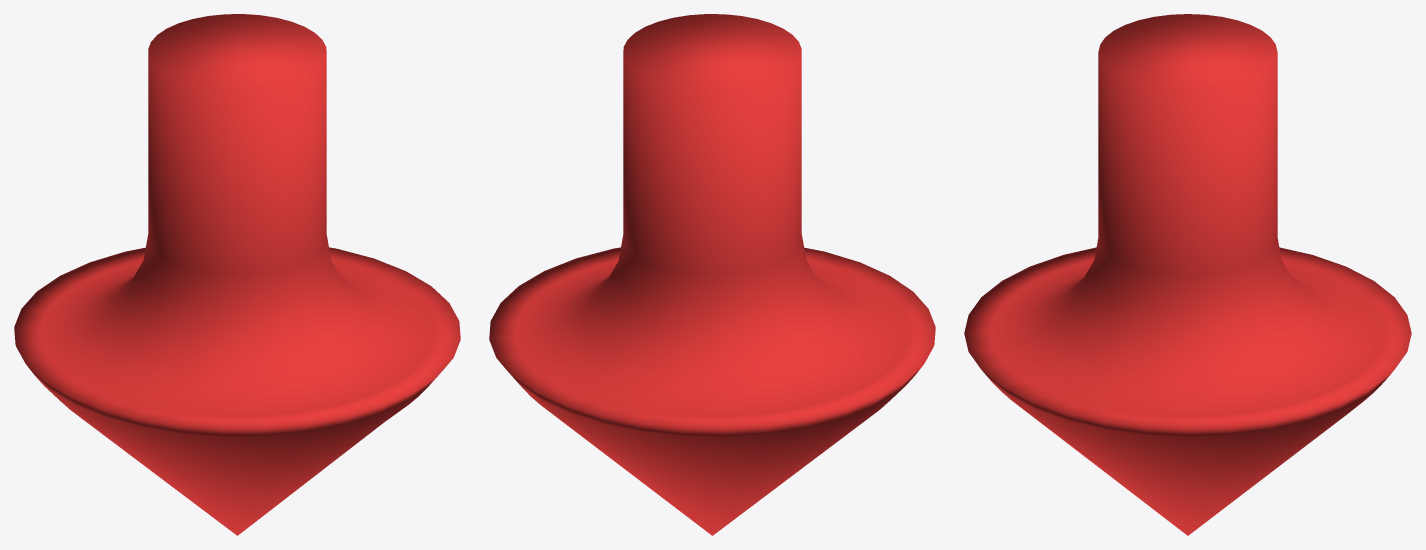
File: Arrow Indicator.dae
The picture shows the model from 3 angles, left to right: view 1: azimuth 30°, elevation 25°; view 2: azimuth 150°, elevation 25°; view 3: azimuth 270°, elevation 25°; orthographic projection.
Parts seen in each view (by area): view 1: Cylinder; view 2: Cylinder; view 3: Cylinder.
Part boxes in pixels (x1,y1,x2,y2): Cylinder: (14, 14, 460, 535); Cylinder: (489, 14, 935, 535); Cylinder: (964, 14, 1411, 535).
Size of the model in its own units: 2 by 2 by 2.39.
